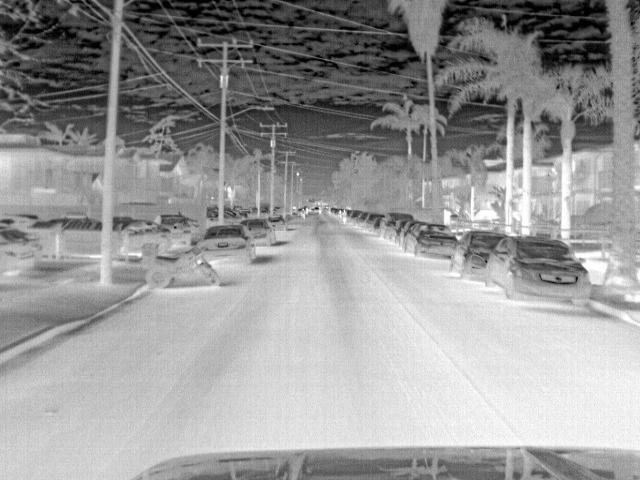car: (482, 236, 594, 306), (450, 230, 502, 278), (202, 227, 258, 264), (113, 221, 172, 254), (406, 225, 464, 258), (1, 228, 37, 276), (157, 213, 192, 246), (240, 218, 278, 248), (380, 212, 413, 238), (271, 216, 292, 240), (365, 212, 381, 229), (371, 216, 385, 232), (357, 212, 371, 227), (349, 211, 363, 226)
